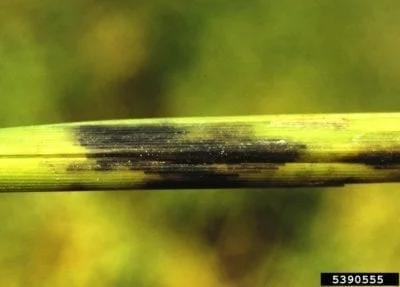Stem Rot: (0, 112, 400, 194), (67, 121, 330, 189)
